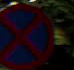No Stopping: (0, 0, 55, 67)
